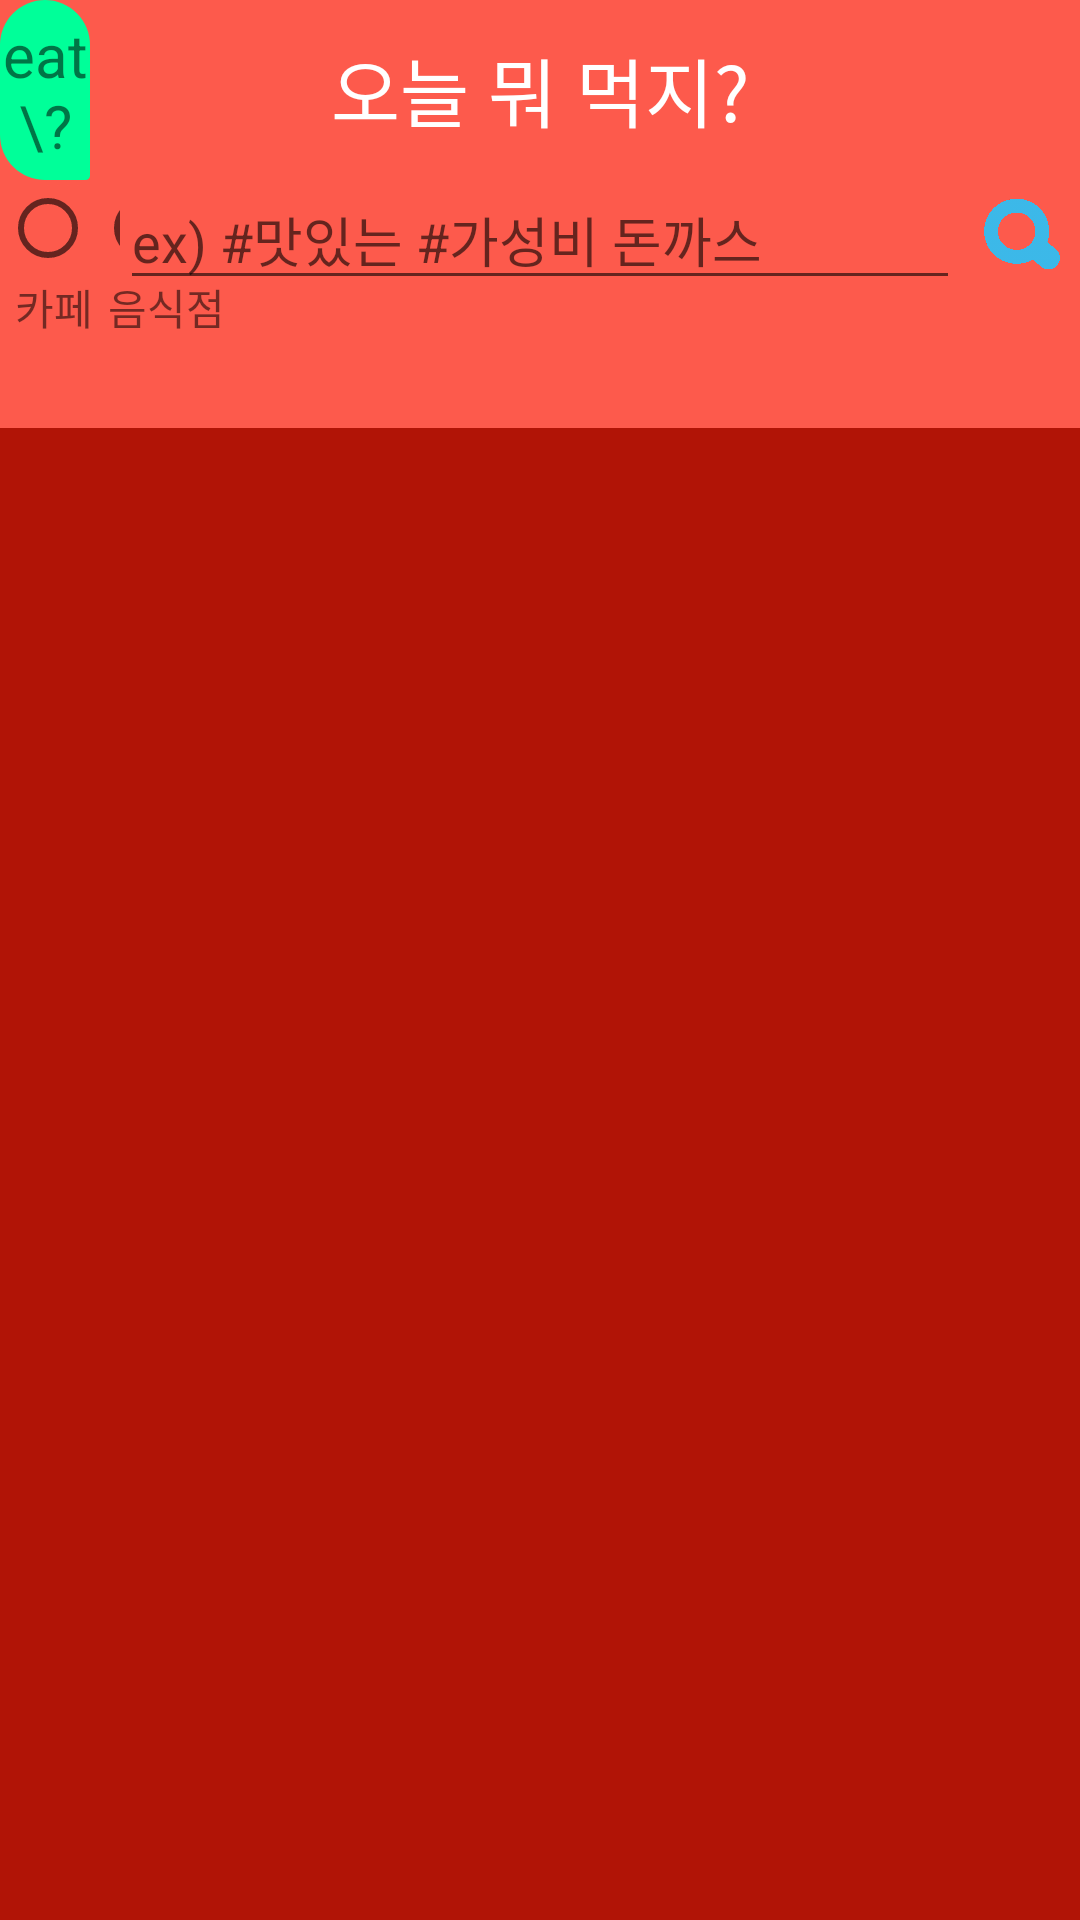

Screen size 1080 x 1920. Icon name, then its center in pixels as [x,y]:
pngtree search: [1022,234]
